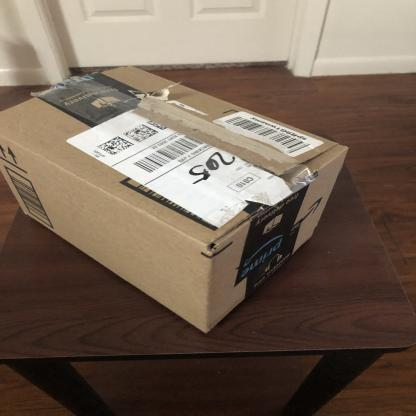package: (0, 62, 352, 339)
